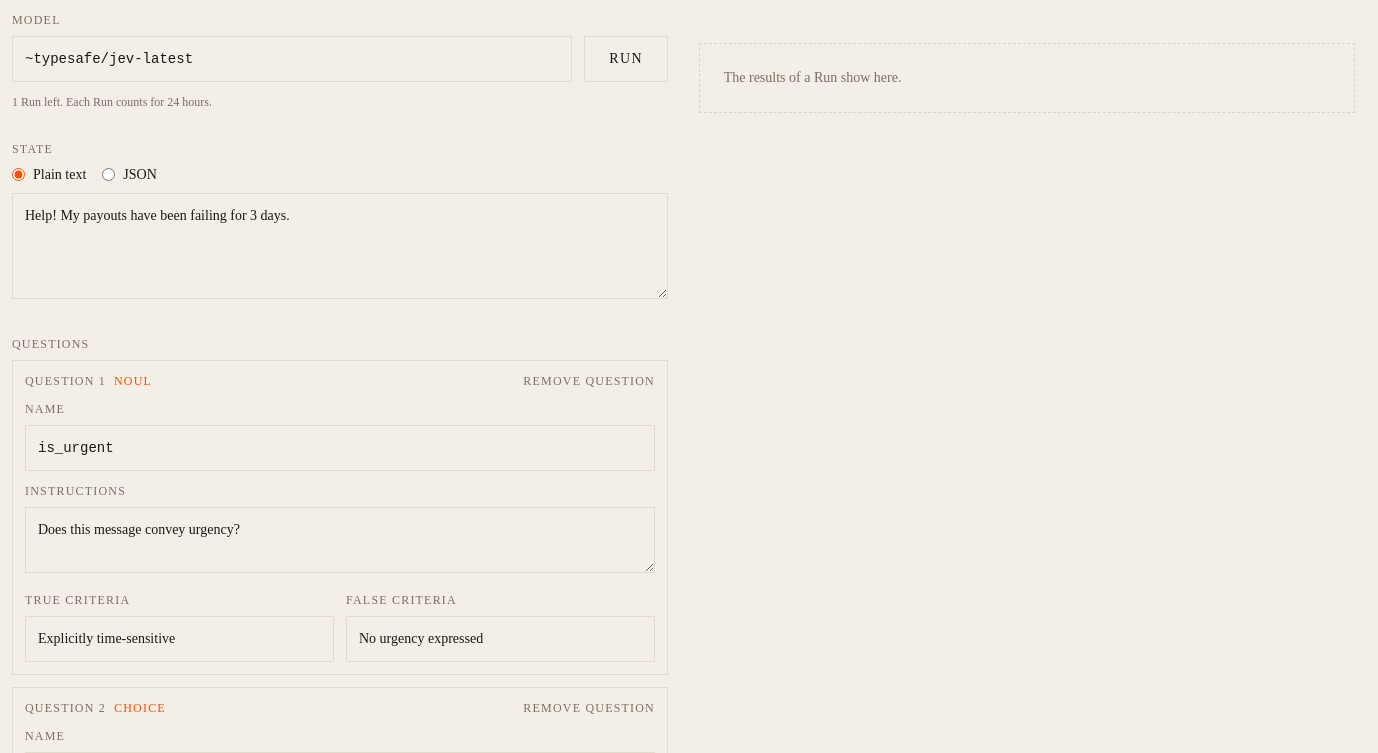
Scenario: Options panel: noul questions › Runs left › shows no Runs left and the refusal when the limit is reached
The width and height of the screenshot is (1378, 753).
Click the button "Run".
click(626, 59)  # box x1=584 y1=36 x2=668 y2=82
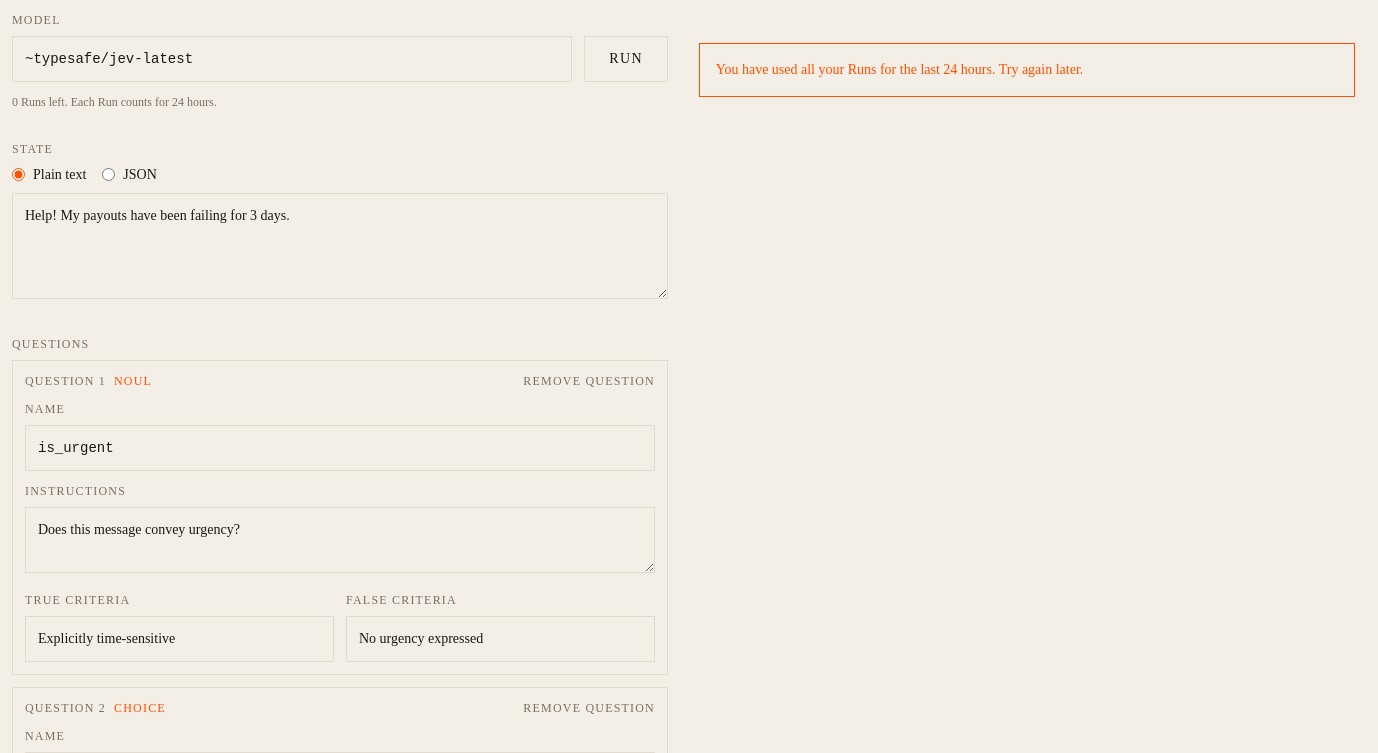
Expected: the text "You have used all your Runs for the last 24 hours. Try again later." is shown, x1=699 y1=43 x2=1355 y2=97
Expected: the text "0 Runs left. Each Run counts for 24 hours." is shown, x1=12 y1=95 x2=217 y2=109
